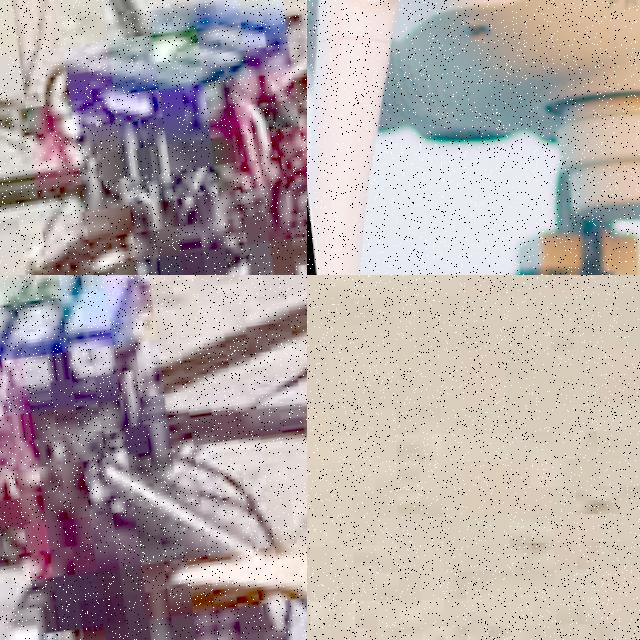0: (0, 275, 307, 640), (0, 0, 307, 275)
drone: (307, 0, 640, 275)
